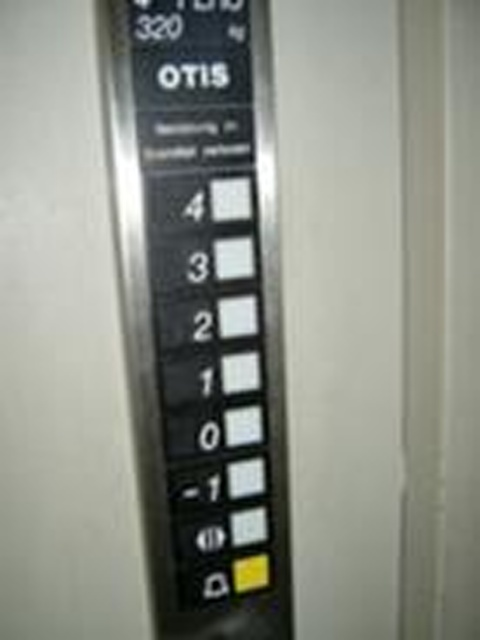-1: (163, 449, 273, 514)
0: (157, 399, 271, 460)
1: (155, 345, 270, 409)
2: (151, 291, 266, 348)
3: (147, 232, 264, 295)
4: (146, 165, 259, 234)
alarm: (171, 548, 276, 610)
open: (169, 503, 274, 561)
